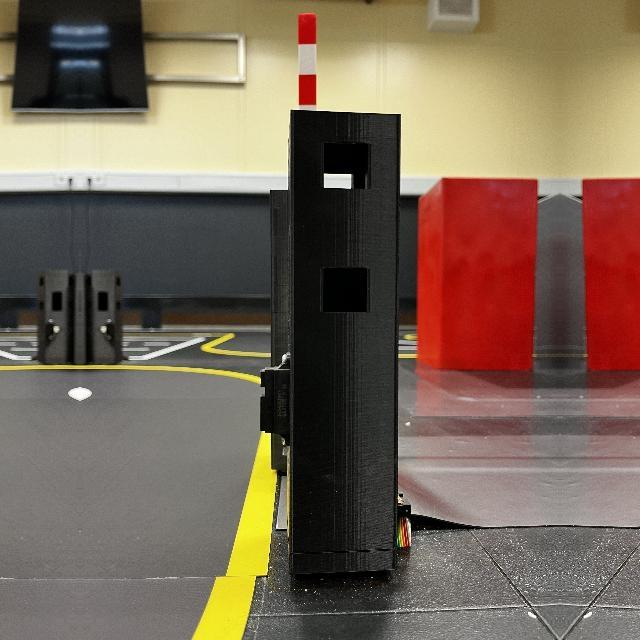obstacle: (286, 108, 404, 574)
